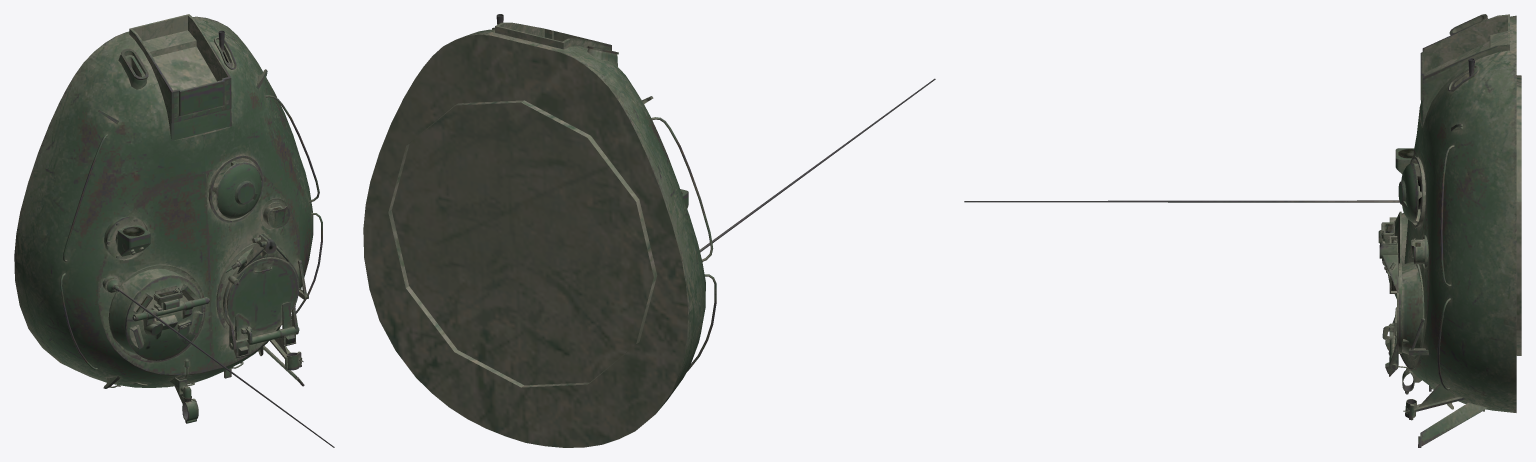
Rendered from Turret_01.glb.
The picture shows the model from 3 angles, left to right: view 1: azimuth 30°, elevation 25°; view 2: azimuth 150°, elevation 25°; view 3: azimuth 270°, elevation 25°; orthographic projection. The views are drawn at different scales.
Visible parts, largest first — view 1: set_0_group_0; view 2: set_0_group_0; view 3: set_0_group_0.
Part boxes in pixels (left/top/right/bottom): set_0_group_0: left=14, top=14, right=334, bottom=447; set_0_group_0: left=363, top=14, right=935, bottom=447; set_0_group_0: left=964, top=14, right=1521, bottom=447.
Bounding box in the file's own units: 2.19 × 2.66 × 3.62.
Materials: 1 (1 with a texture image).
